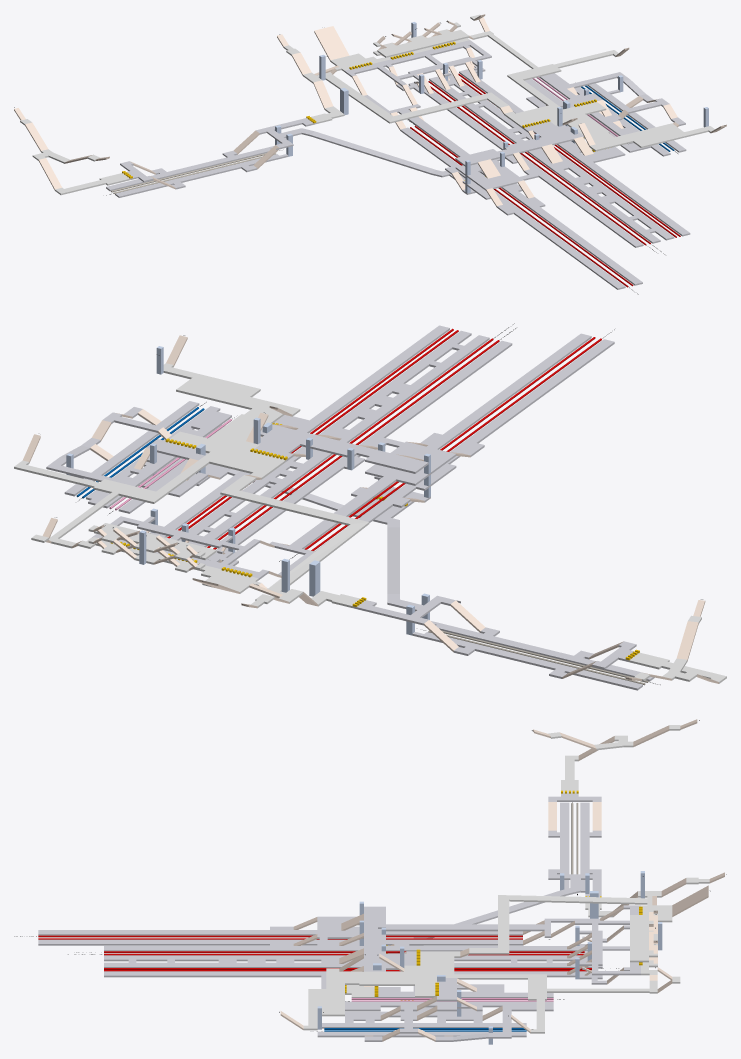
Rendered from nnmm.glb.
3 views of the same model, one above another, from view 1: azimuth 30°, elevation 25°; view 2: azimuth 150°, elevation 25°; view 3: azimuth 270°, elevation 25° (orthographic). The views are drawn at different scales.
Visible parts, largest first — view 1: rect956, path868, path1467, rect82428, path1469, path968-3, rect82135, rect82175, rect82531, path1562, rect6524, path1566 (+10 smaller); view 2: rect956, path868, path1467, rect82428, path968-3, path1469, rect82175, rect82531, path1562, rect82135, path82392, path1566 (+11 smaller); view 3: rect956, path868, rect82428, path1467, path1469, path1562, path1622, rect82175, path1566, path968-3, rect82531, rect82135 (+9 smaller).
Boxes of the visible parts, x1,y1,x2,y2 form: rect956: [429, 72, 685, 243]; path868: [470, 31, 714, 151]; path1467: [364, 81, 643, 247]; rect82428: [400, 127, 642, 289]; path1469: [459, 65, 690, 236]; path968-3: [106, 146, 288, 197]; rect82135: [344, 40, 491, 86]; rect82175: [303, 72, 508, 123]; rect82531: [455, 121, 584, 166]; path1562: [428, 73, 680, 244]; rect6524: [377, 29, 469, 57]; path1566: [410, 125, 633, 287]; rect956: [46, 330, 489, 547]; path868: [14, 363, 300, 548]; path1467: [207, 340, 512, 575]; rect82428: [315, 333, 614, 551]; path968-3: [412, 621, 654, 690]; path1469: [150, 325, 449, 537]; rect82175: [220, 475, 369, 603]; rect82531: [253, 424, 428, 473]; path1562: [167, 328, 493, 547]; rect82135: [92, 516, 268, 579]; path82392: [78, 537, 260, 593]; path1566: [304, 337, 601, 550]; rect956: [104, 955, 602, 1041]; path868: [303, 951, 657, 1033]; rect82428: [38, 926, 522, 945]; path1467: [104, 916, 606, 951]; path1469: [104, 971, 606, 988]; path1562: [104, 954, 591, 971]; path1622: [322, 1000, 526, 1028]; rect82175: [469, 891, 661, 954]; path1566: [38, 935, 522, 939]; path968-3: [548, 802, 601, 892]; rect82531: [364, 906, 416, 971]; rect82135: [575, 905, 640, 975].
Bounding box in the file's own units: 383 × 40 × 390.
